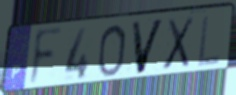4: (62, 26, 92, 82)
F: (27, 25, 64, 91)
L: (196, 13, 222, 69)
O: (96, 23, 128, 79)
V: (130, 17, 167, 77)
X: (161, 14, 196, 72)
